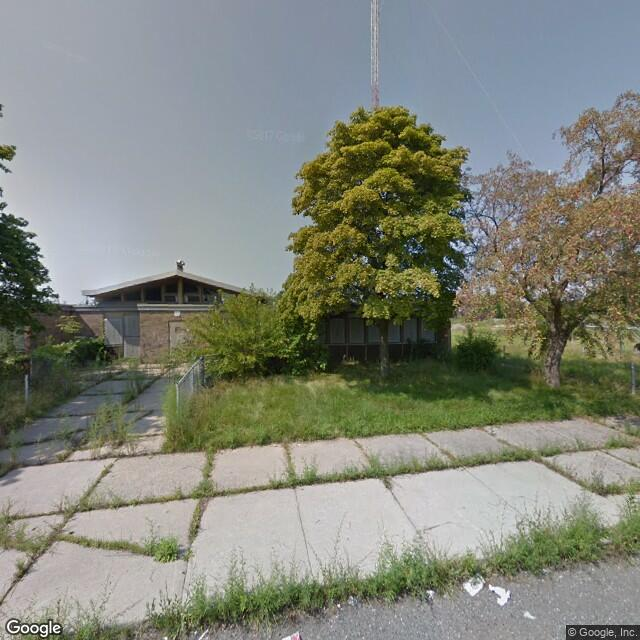litter: (487, 583, 512, 608), (460, 573, 486, 594), (274, 631, 309, 639), (523, 608, 540, 621), (424, 587, 438, 600), (347, 594, 355, 607)
